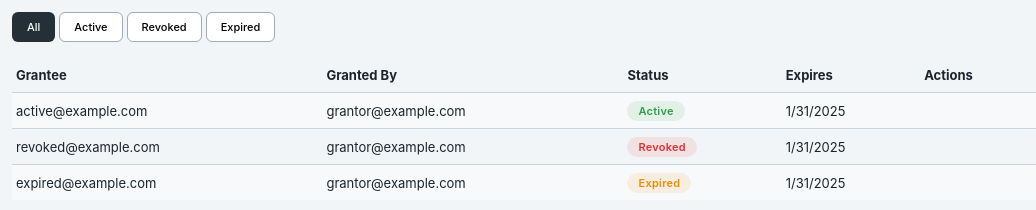
Test: EditGrantsList › Status filtering › should filter to expired grants only
The width and height of the screenshot is (1036, 210).
Click the button with test id "filter-expired" at (240, 27), box [206, 12, 275, 42]
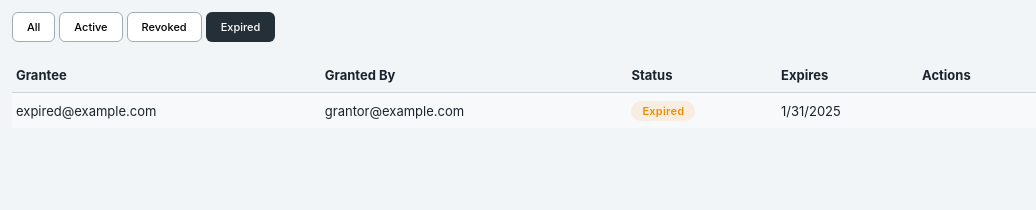
expect the row with test id "edit-grant-row-expired-1" is shown: met, box [12, 93, 1035, 128]
expect the row with test id "edit-grant-row-active-1" is gone: met
expect the row with test id "edit-grant-row-revoked-1" is gone: met
